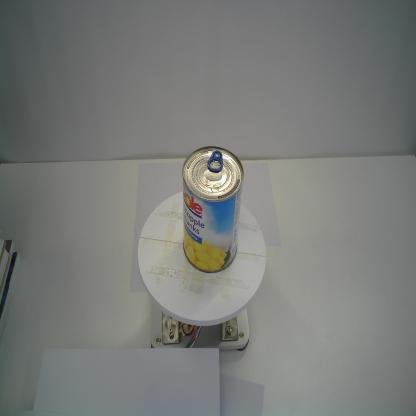Canned Food: (181, 145, 244, 274)
